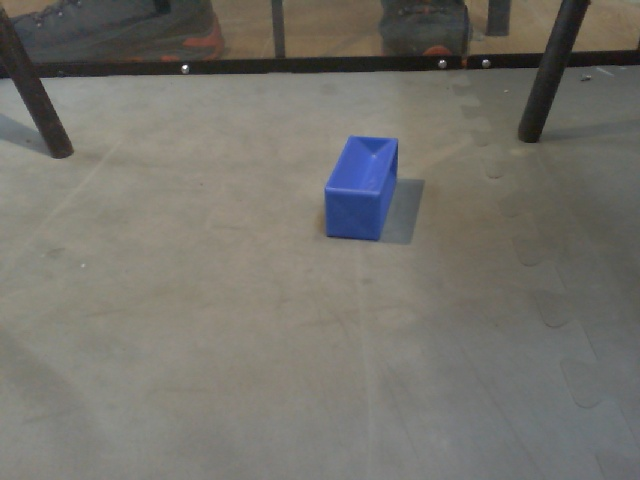BlueSample: (323, 133, 401, 246)
